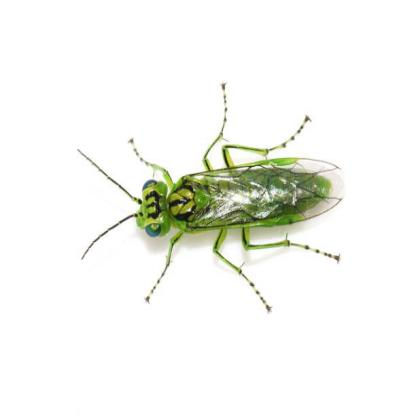sawfly: (76, 77, 349, 317)
